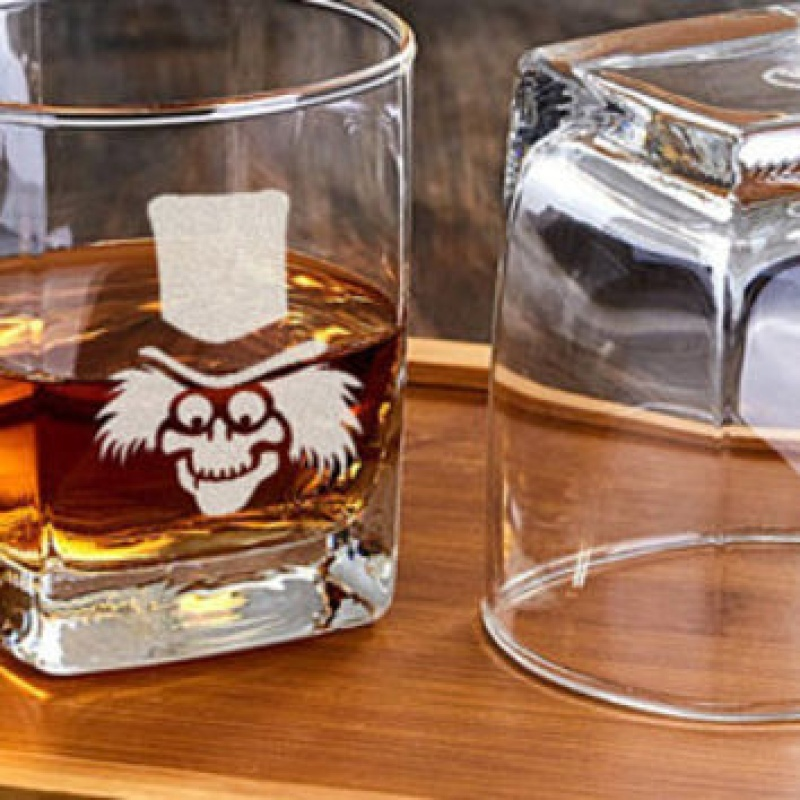whiskey: (4, 1, 411, 631)
